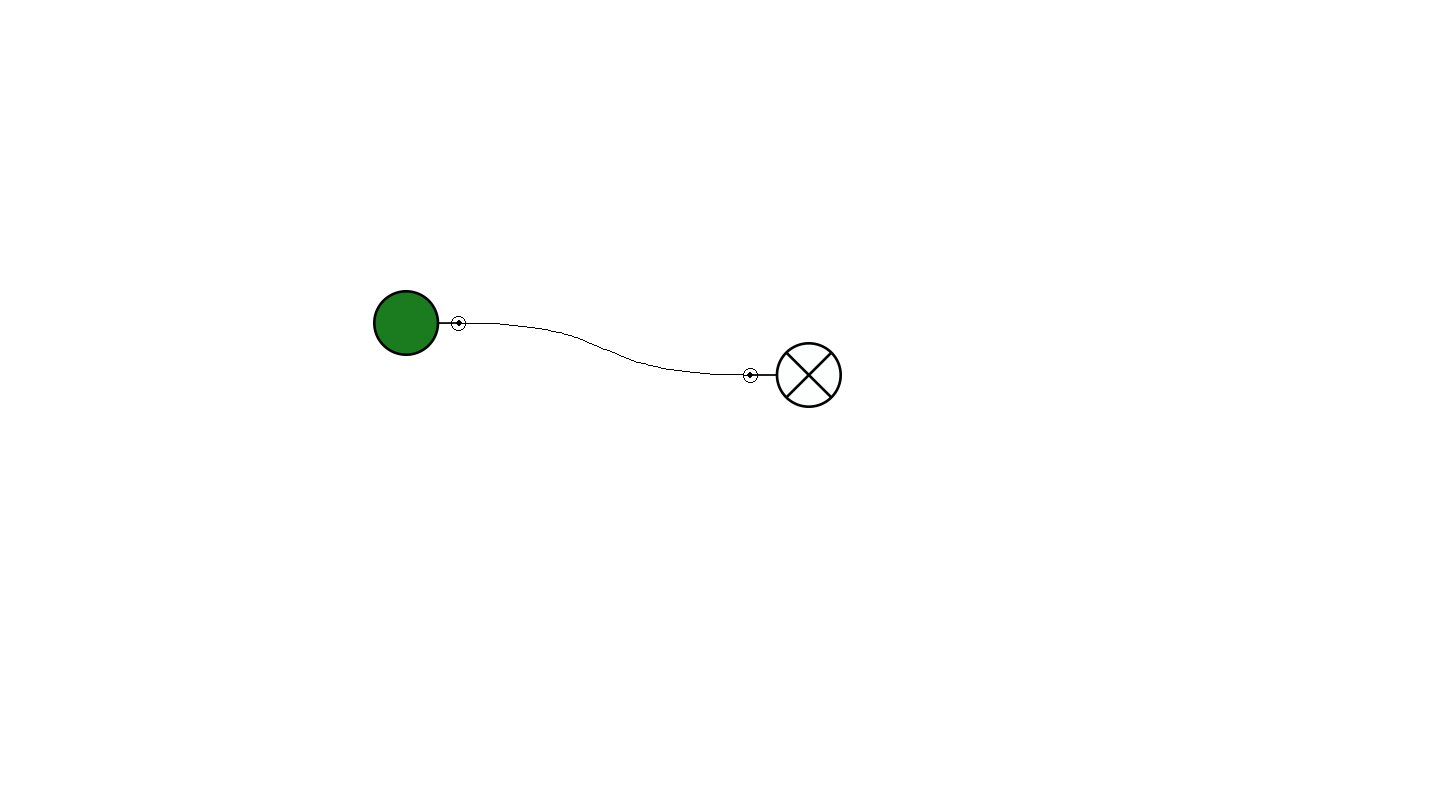bulb: (743, 342, 842, 408)
switch_True: (373, 290, 466, 356)
